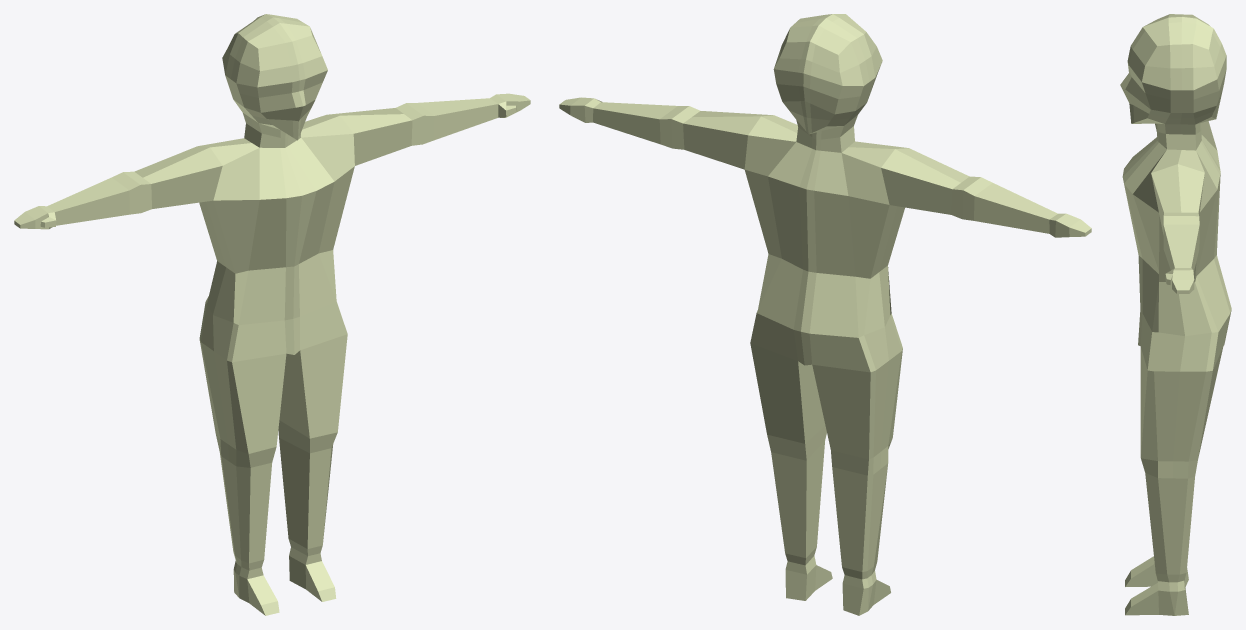
File: lowPolyMan.fbx
3 renders of one model, left to right at view 1: azimuth 30°, elevation 25°; view 2: azimuth 150°, elevation 25°; view 3: azimuth 270°, elevation 25°, orthographic. The views are drawn at different scales.
Visible parts, largest first — view 1: Man; view 2: Man; view 3: Man.
Boxes of the visible parts, <box> form: Man: <box>14,14,530,615</box>; Man: <box>559,14,1091,615</box>; Man: <box>1120,14,1231,615</box>.
Bounding box in the file's own units: 1282 × 1366 × 238.
